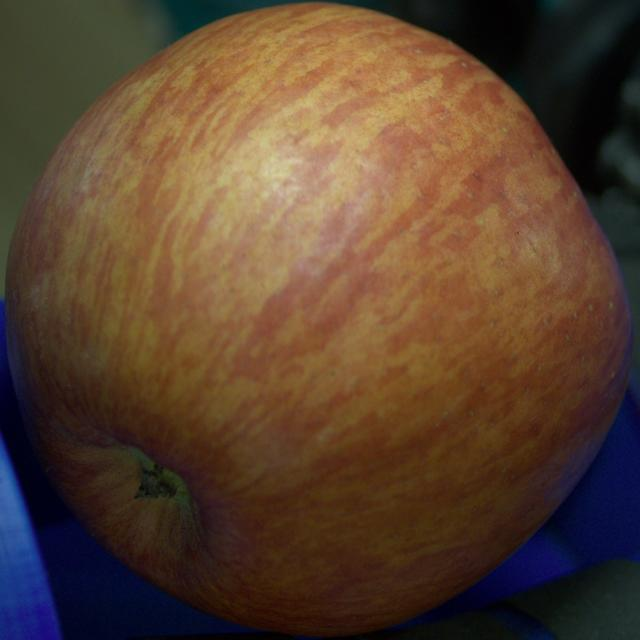apple: (6, 4, 632, 636)
